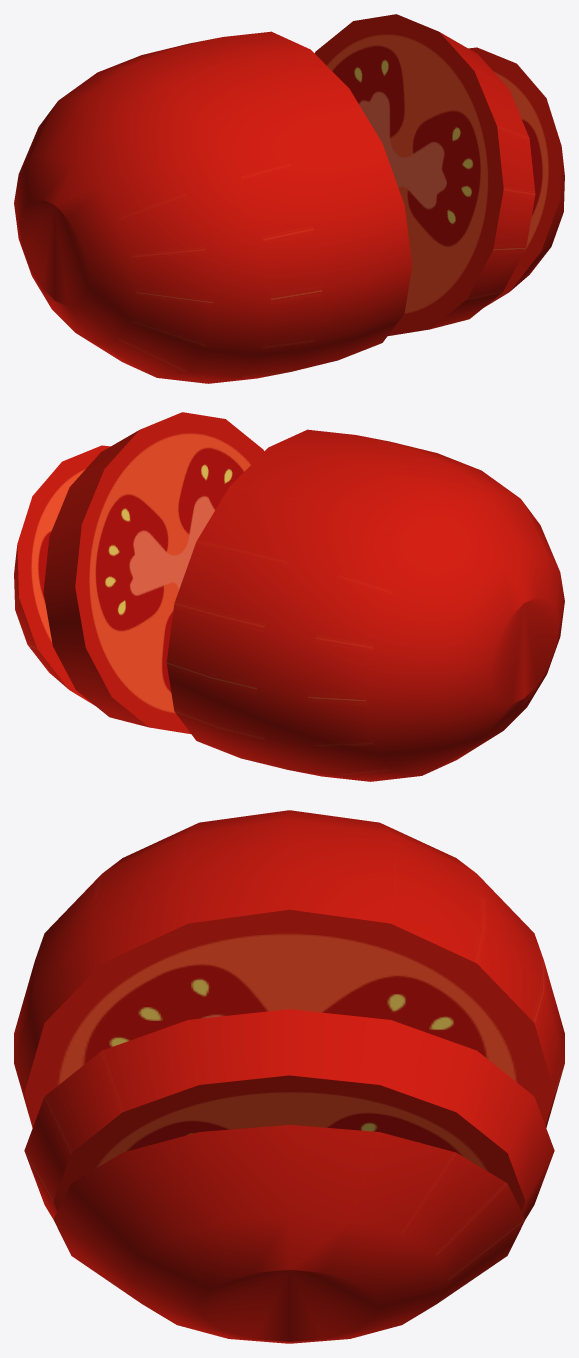
The model's file is Tomato_01_S2.fbx.
3 renders of one model, top to bottom at view 1: azimuth 30°, elevation 25°; view 2: azimuth 150°, elevation 25°; view 3: azimuth 270°, elevation 25°, orthographic. The views are drawn at different scales.
Visible parts, largest first — view 1: Tomato_01_S2; view 2: Tomato_01_S2; view 3: Tomato_01_S2.
Part boxes in pixels (x1,y1,x2,y2): Tomato_01_S2: (14,14,564,383); Tomato_01_S2: (14,412,564,781); Tomato_01_S2: (14,810,564,1343).
Bounding box in the file's own units: 41.17 × 24.03 × 31.43.
